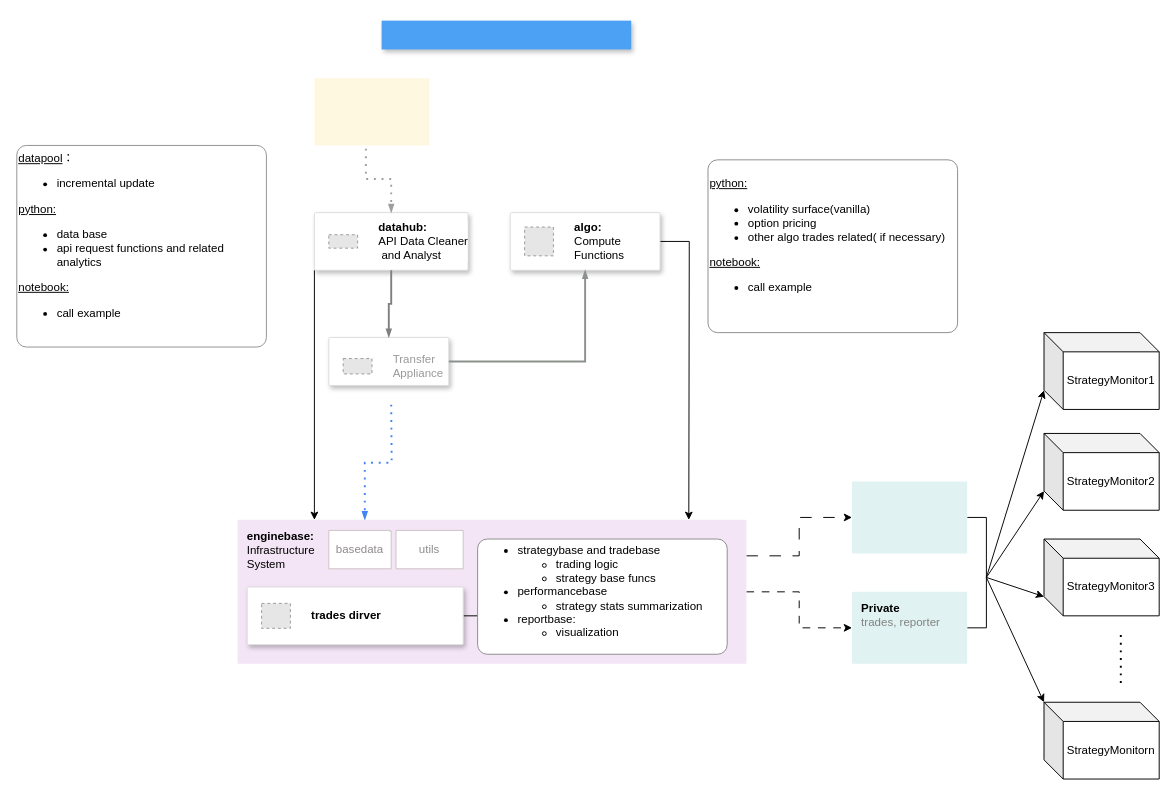
Image size: 1176x796. Some labels were removed from this diagram. Grey dashed boxes stand in for pictures. Each missing label, with the centre of its shape:
Architecture: beebee-Ate: point 506,36
External Data Sources: Tushare: point 371,111
puiblic trades, reporter: point 909,517
